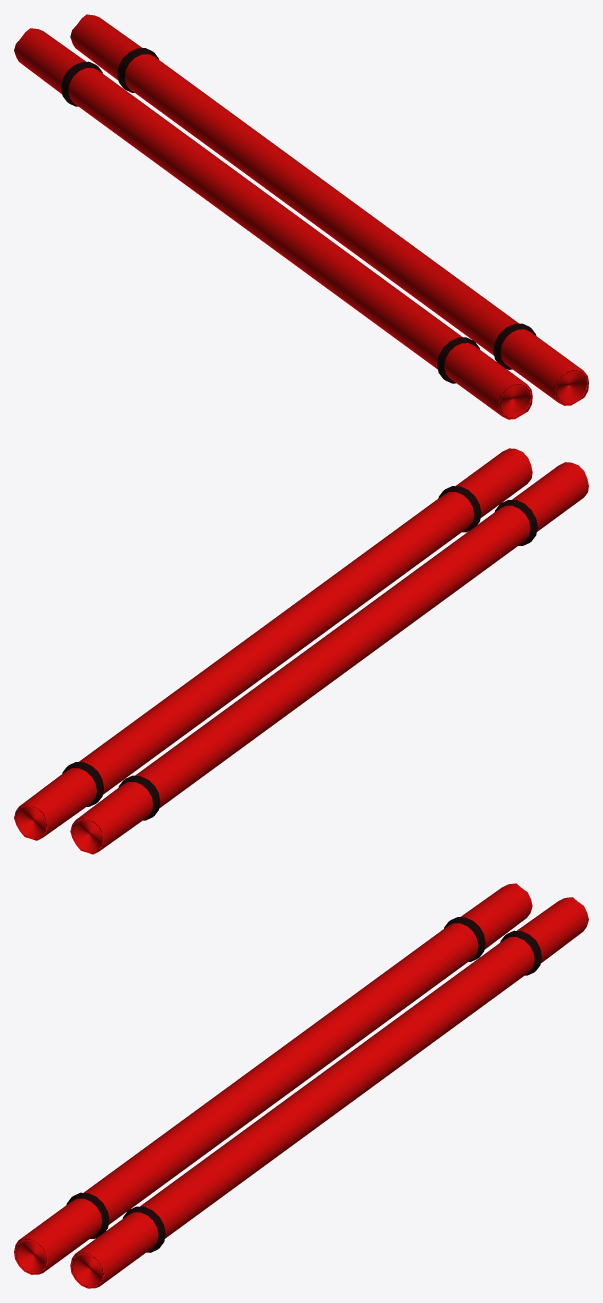
File: takenoyatu.fbx
3 renders of one model, top to bottom at view 1: azimuth 30°, elevation 25°; view 2: azimuth 150°, elevation 25°; view 3: azimuth 330°, elevation 25°, orthographic.
Parts seen in each view (by area): view 1: Cylinder; view 2: Cylinder; view 3: Cylinder.
Boxes of the visible parts, bbox=[...] form: Cylinder: bbox=[14, 14, 588, 419]; Cylinder: bbox=[14, 448, 588, 854]; Cylinder: bbox=[14, 883, 588, 1288].
Bounding box in the file's own units: 4.93 × 2.12 × 42.1.
